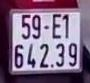1: (62, 12, 71, 41)
2: (39, 41, 50, 70)
3: (54, 41, 67, 70)
4: (27, 41, 37, 69)
5: (19, 13, 32, 40)
6: (13, 42, 25, 72)
9: (32, 13, 45, 41), (68, 41, 79, 67)
E: (50, 13, 64, 40)
